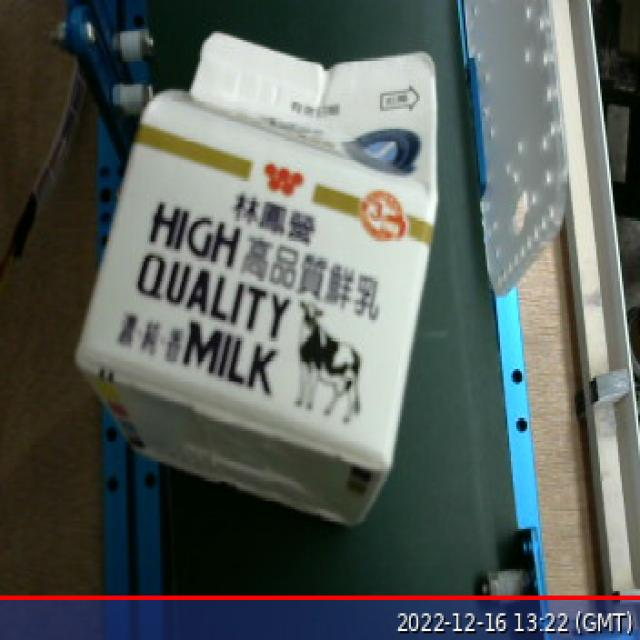non_white_jug: (64, 24, 450, 537)
